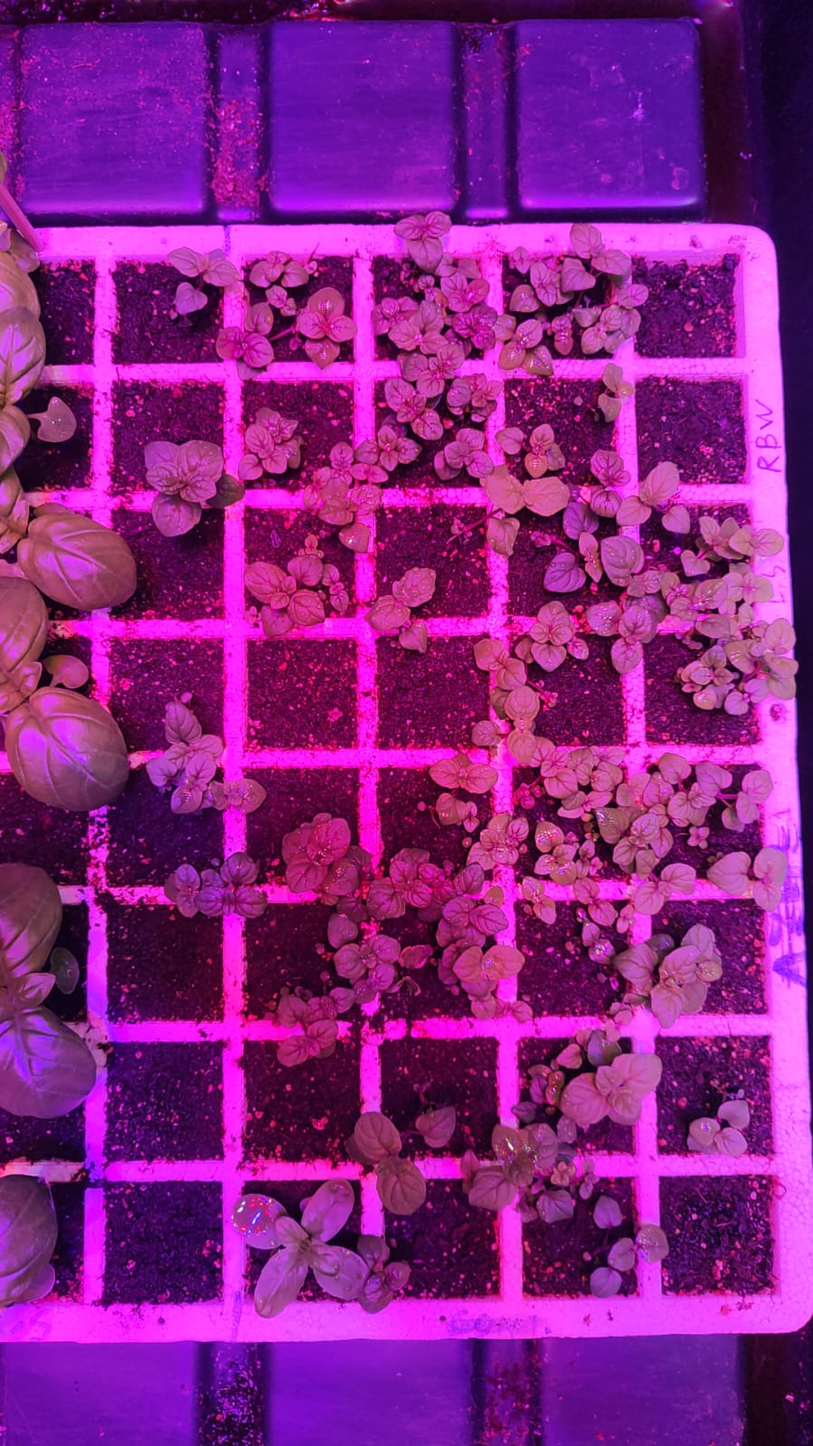Germinacao: (0, 127, 84, 427), (290, 406, 431, 565), (134, 681, 278, 826), (231, 239, 369, 385), (422, 442, 550, 573), (422, 986, 550, 1117), (422, 307, 550, 437), (422, 579, 550, 709), (422, 850, 550, 980), (291, 1122, 419, 1252), (422, 1122, 550, 1252), (30, 442, 157, 573), (553, 442, 680, 573), (30, 714, 157, 845), (30, 986, 157, 1117), (161, 986, 288, 1117), (553, 986, 680, 1117), (684, 986, 811, 1117), (30, 307, 157, 437), (30, 579, 157, 709), (161, 579, 288, 709), (553, 579, 680, 709), (161, 850, 288, 980), (553, 850, 680, 980), (161, 1122, 288, 1252), (553, 1122, 680, 1252), (161, 1258, 288, 1388), (291, 1258, 419, 1382), (684, 850, 805, 980), (684, 579, 804, 709), (346, 1082, 451, 1226), (685, 1122, 798, 1252), (685, 442, 796, 573), (235, 525, 348, 645), (553, 739, 680, 844), (685, 714, 780, 845), (137, 430, 232, 546), (161, 308, 288, 390), (553, 219, 680, 299), (684, 1319, 811, 1385), (553, 309, 680, 372), (161, 244, 288, 298), (425, 207, 493, 299), (685, 1261, 789, 1320), (55, 877, 110, 979), (553, 1331, 680, 1372), (468, 717, 548, 780), (276, 663, 343, 730), (483, 229, 547, 298), (330, 927, 417, 977), (555, 1262, 648, 1305), (424, 1262, 510, 1308), (425, 750, 508, 796), (363, 581, 415, 652), (437, 264, 504, 318), (686, 241, 748, 298), (365, 853, 415, 922), (686, 310, 750, 362), (82, 865, 155, 906), (453, 1312, 548, 1340), (30, 194, 157, 214), (383, 351, 414, 425), (478, 801, 531, 841), (433, 791, 481, 835), (306, 1008, 350, 1056), (319, 856, 360, 907), (222, 468, 253, 534), (322, 193, 417, 214), (373, 310, 415, 353), (33, 1158, 90, 1189), (298, 812, 353, 840), (328, 990, 383, 1014), (327, 910, 359, 950), (244, 406, 284, 432), (34, 1262, 60, 1302), (232, 450, 264, 481), (248, 447, 283, 475), (515, 192, 542, 212), (303, 736, 326, 750)
